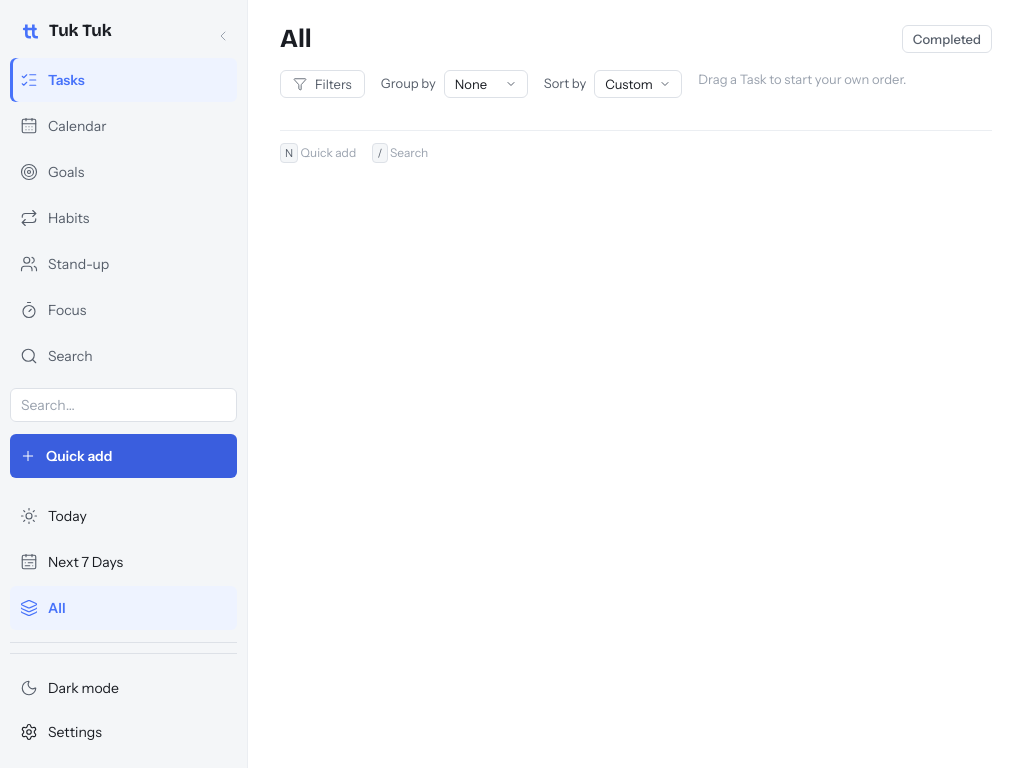
Scenario: Completed view › Today has no completed view toggle
The image size is (1024, 768).
Click the button "Today".
click(124, 516)  # box [10,494,237,538]
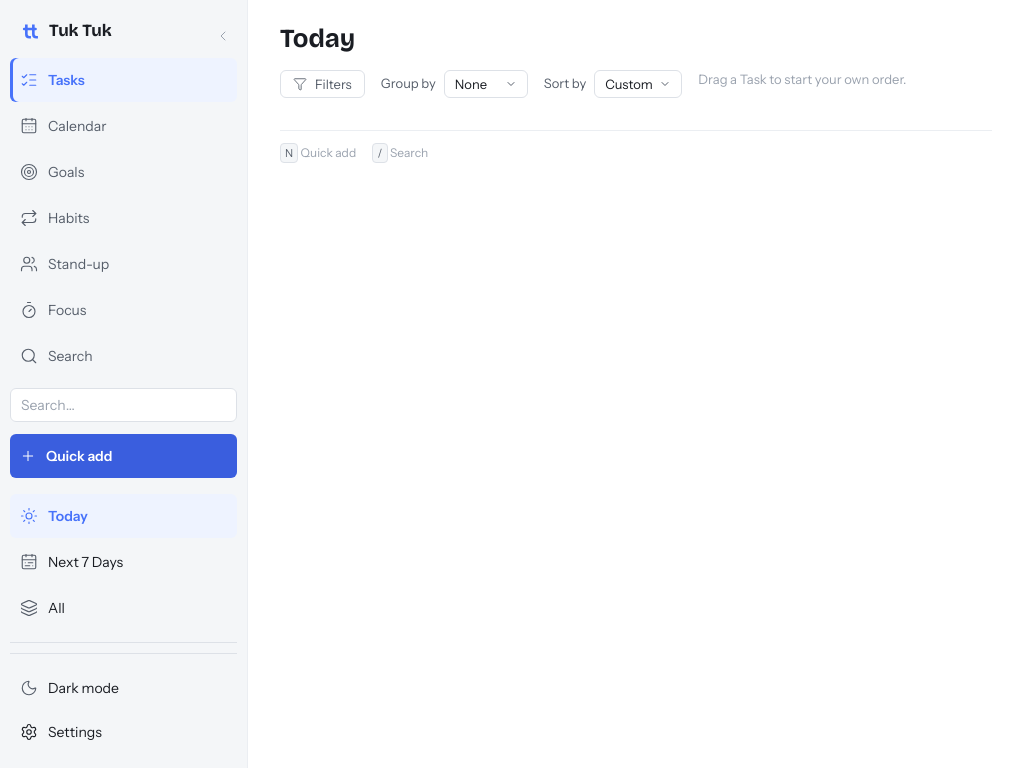
Result: the heading "Today" is shown at [280,24,355,54]
Result: the button "Completed" is gone
